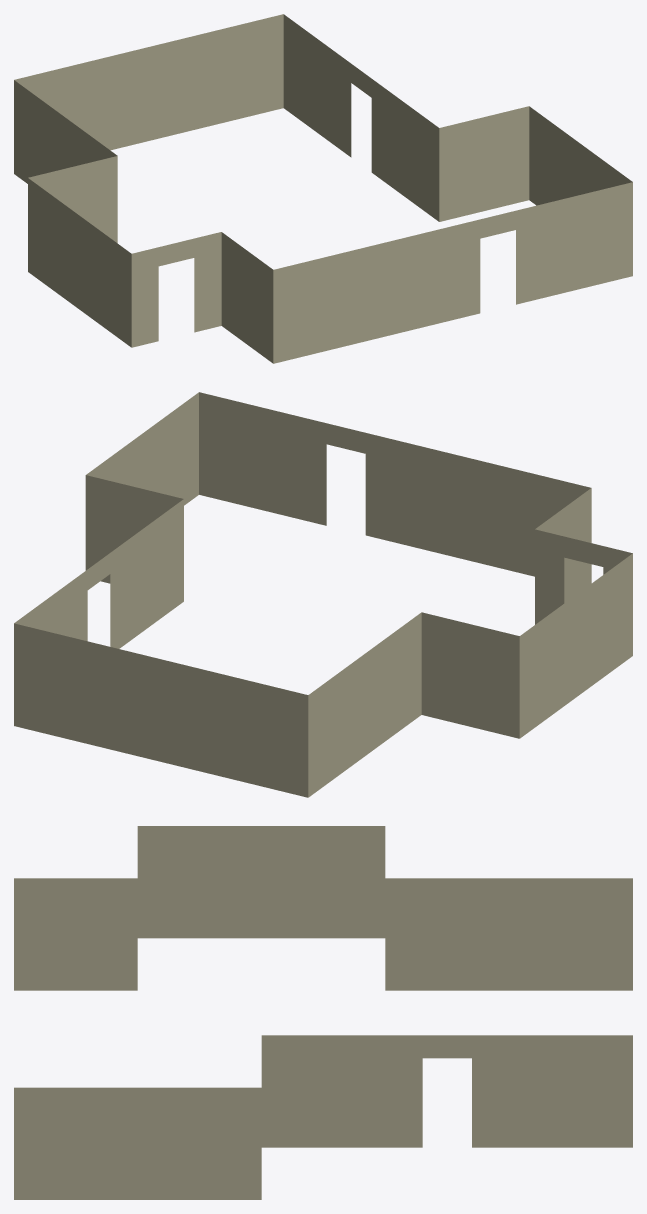
Rendered from Homeworld_Interior_Md_Room_E_Filling_01_Vo.fbx.
3 renders of one model, top to bottom at view 1: azimuth 30°, elevation 25°; view 2: azimuth 150°, elevation 25°; view 3: azimuth 270°, elevation 25°, orthographic. The views are drawn at different scales.
Parts seen in each view (by area): view 1: Homeworld_Interior_Md_Room_E_Filling_01_Vo; view 2: Homeworld_Interior_Md_Room_E_Filling_01_Vo; view 3: Homeworld_Interior_Md_Room_E_Filling_01_Vo.
Part boxes in pixels (<box>): Homeworld_Interior_Md_Room_E_Filling_01_Vo: <box>14,14,632,363</box>; Homeworld_Interior_Md_Room_E_Filling_01_Vo: <box>14,392,632,797</box>; Homeworld_Interior_Md_Room_E_Filling_01_Vo: <box>14,826,632,1199</box>.
Size of the model in its own units: 25 by 5 by 25.
